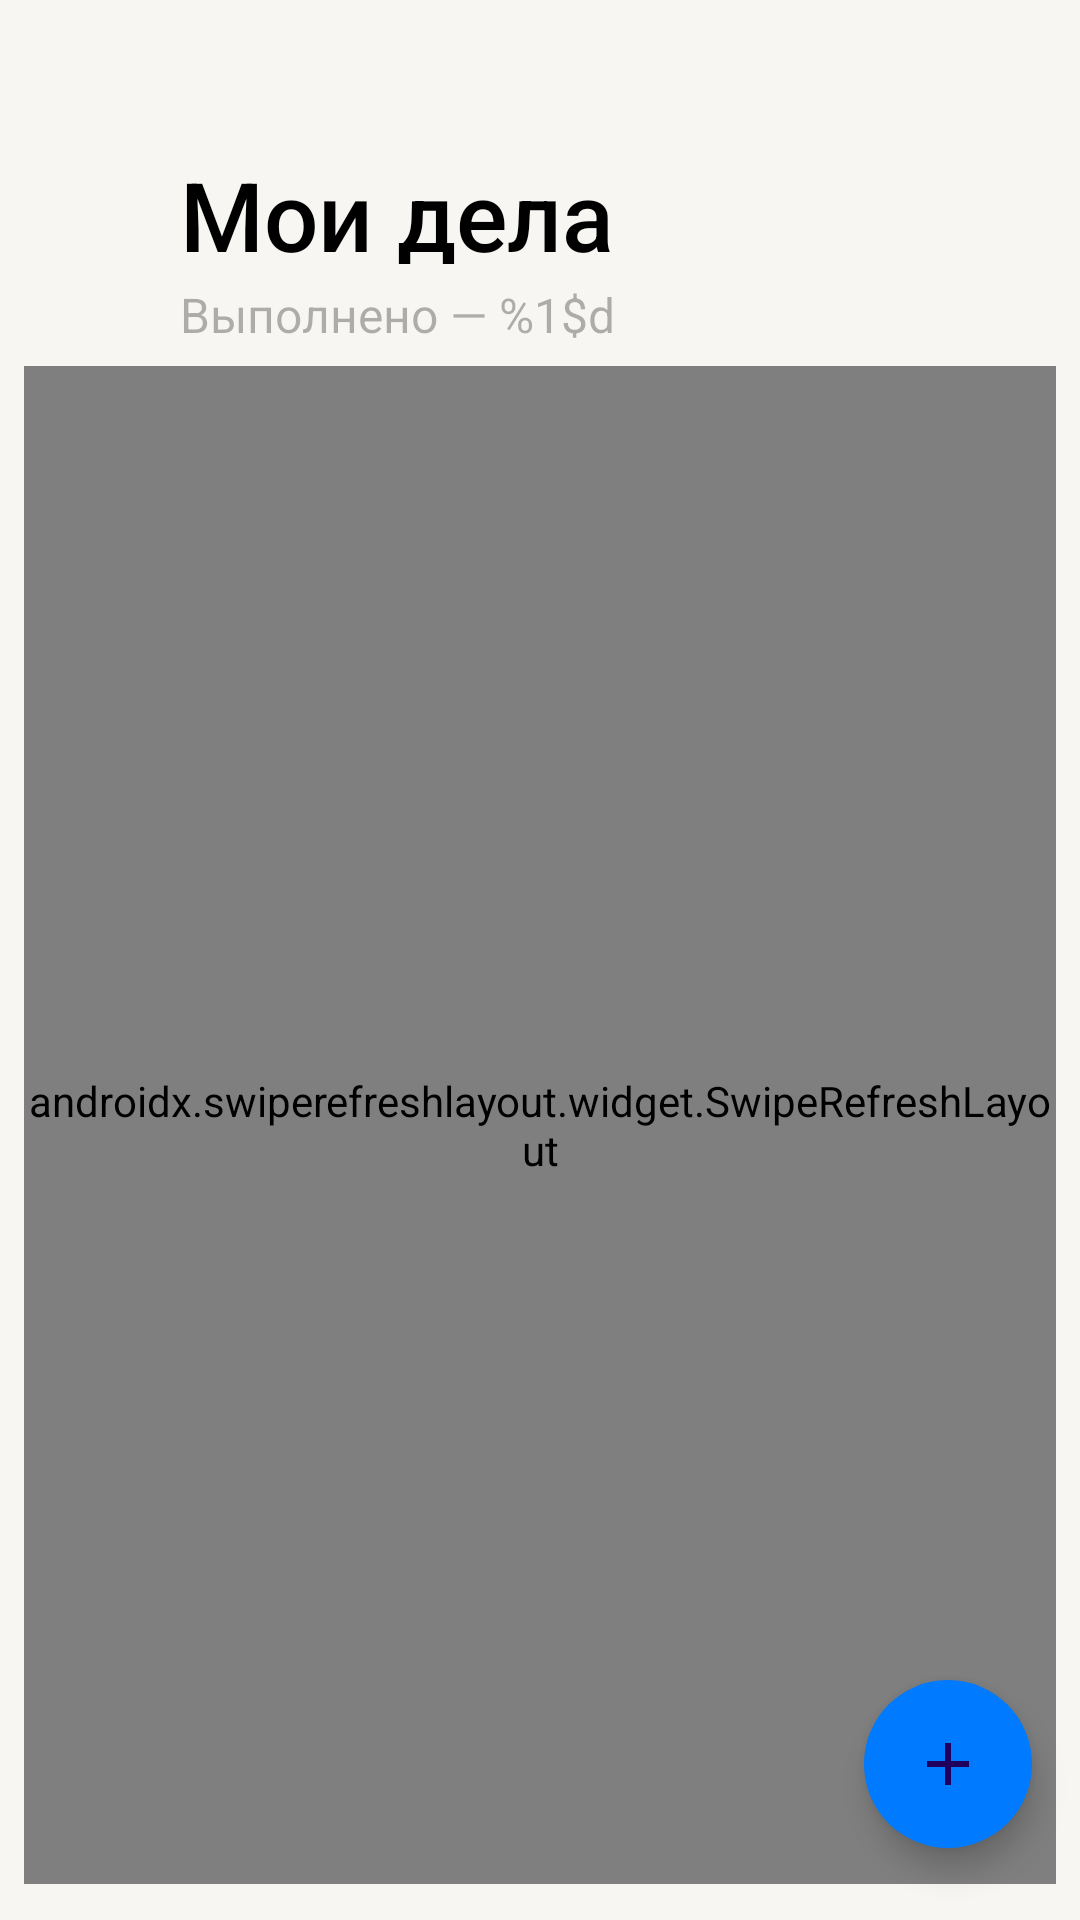

Named icons in this screenshot (1080×1920) and their centers, (x,y):
Добавить новую задачу: (948,1764)
